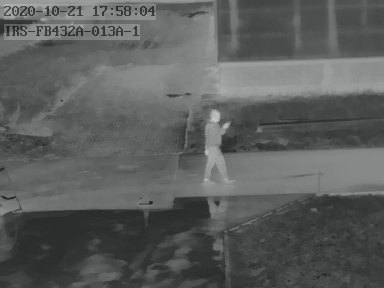person: (202, 108, 235, 186)
